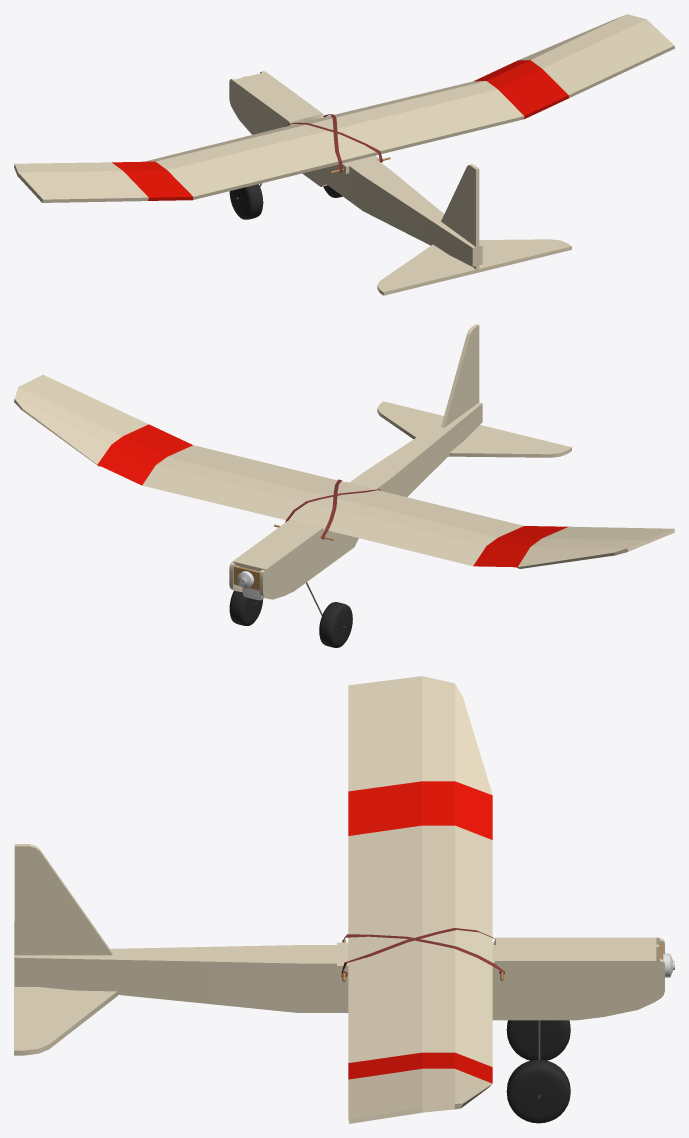
Rendered from TinyTrainer.glb.
The picture shows the model from 3 angles, top to bottom: view 1: azimuth 30°, elevation 25°; view 2: azimuth 150°, elevation 25°; view 3: azimuth 270°, elevation 25°; orthographic projection. The views are drawn at different scales.
Visible parts, largest first — view 1: Wing, InnerBody, HorizontalStab, NosePod, VerticalStab, Wheels, WingRubberBand; view 2: Wing, NosePod, InnerBody, HorizontalStab, VerticalStab, Wheels, WingRubberBand; view 3: Wing, InnerBody, NosePod, VerticalStab, Wheels, HorizontalStab, WingRubberBand.
Boxes of the visible parts, x1,y1,x2,y2 form: Wing: [14, 14, 674, 202]; InnerBody: [326, 156, 482, 266]; HorizontalStab: [377, 239, 571, 295]; NosePod: [229, 71, 379, 186]; VerticalStab: [441, 164, 479, 269]; Wheels: [229, 184, 342, 219]; WingRubberBand: [284, 114, 382, 172]; Wing: [14, 374, 674, 568]; NosePod: [229, 482, 378, 599]; InnerBody: [349, 402, 482, 497]; HorizontalStab: [377, 401, 571, 457]; VerticalStab: [441, 324, 479, 427]; Wheels: [229, 590, 352, 647]; WingRubberBand: [285, 479, 380, 539]; Wing: [348, 676, 492, 1123]; InnerBody: [14, 945, 495, 1012]; NosePod: [337, 937, 664, 1020]; VerticalStab: [14, 844, 112, 986]; Wheels: [506, 1020, 570, 1123]; HorizontalStab: [14, 921, 117, 1055]; WingRubberBand: [341, 928, 504, 976].
Size of the model in its own units: 0.94 by 0.2467 by 0.6047.
